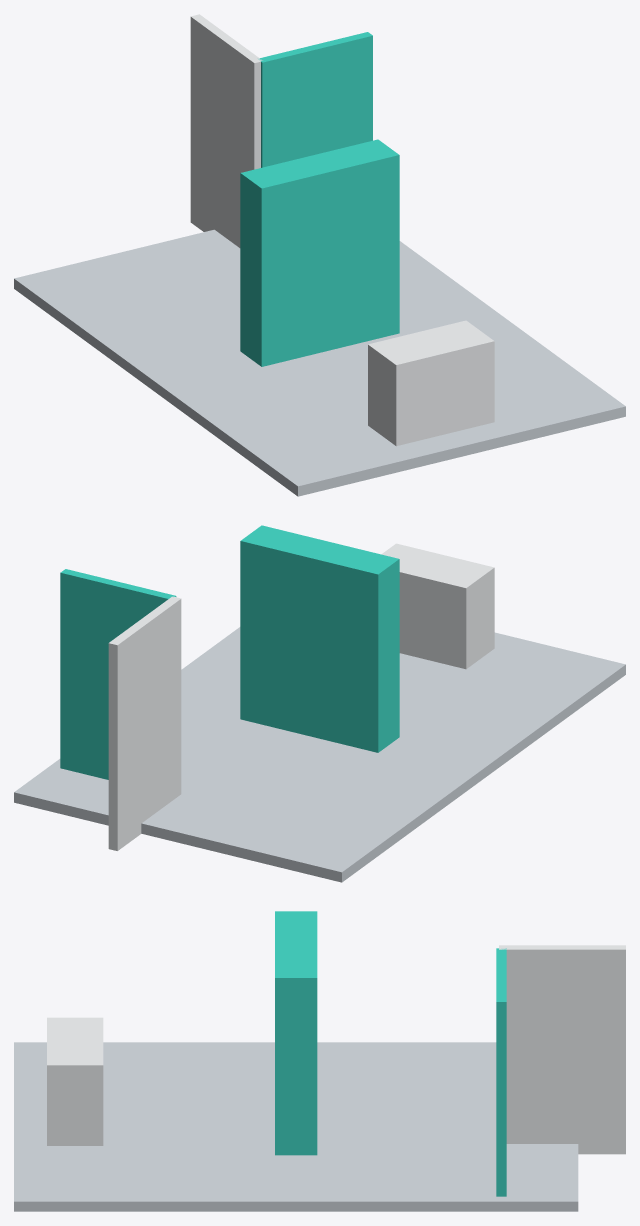
3 views of the same model, one above another, from view 1: azimuth 30°, elevation 25°; view 2: azimuth 150°, elevation 25°; view 3: azimuth 270°, elevation 25° (orthographic).
Visible parts, largest first — view 1: Exhibition Booth Concept; view 2: Exhibition Booth Concept; view 3: Exhibition Booth Concept.
Boxes of the visible parts, box(x1,y1,x2,y2) form: Exhibition Booth Concept: box(14, 14, 625, 496); Exhibition Booth Concept: box(14, 525, 625, 882); Exhibition Booth Concept: box(14, 911, 625, 1211).
Bounding box in the file's own units: 4 × 2.4 × 6.51.
